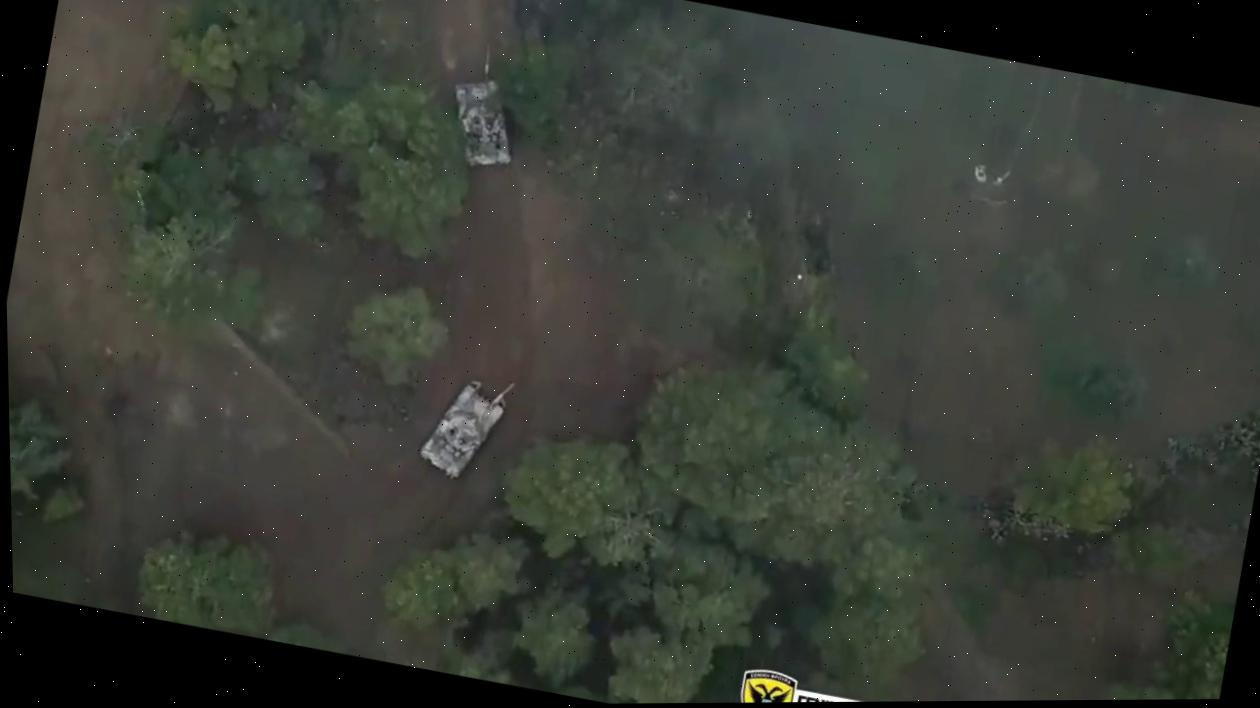tank: (433, 39, 535, 179), (411, 364, 518, 491)
